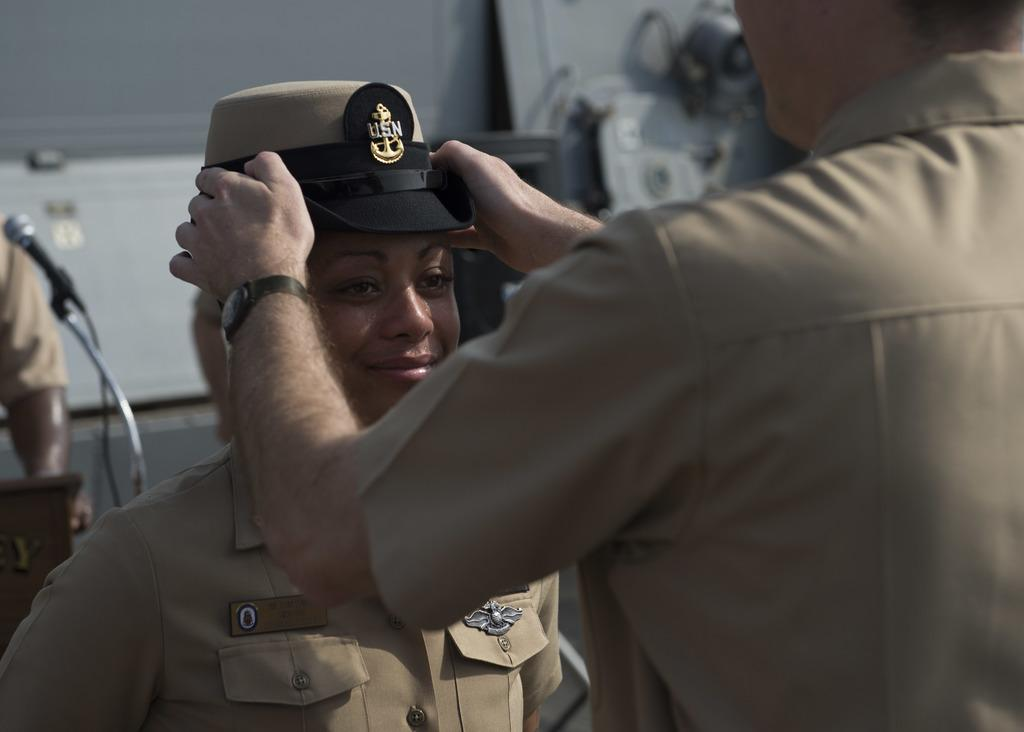Hat: (200, 80, 480, 236)
